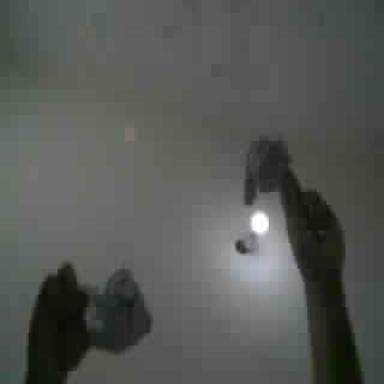paper: (84, 269, 149, 352), (244, 138, 290, 205)
